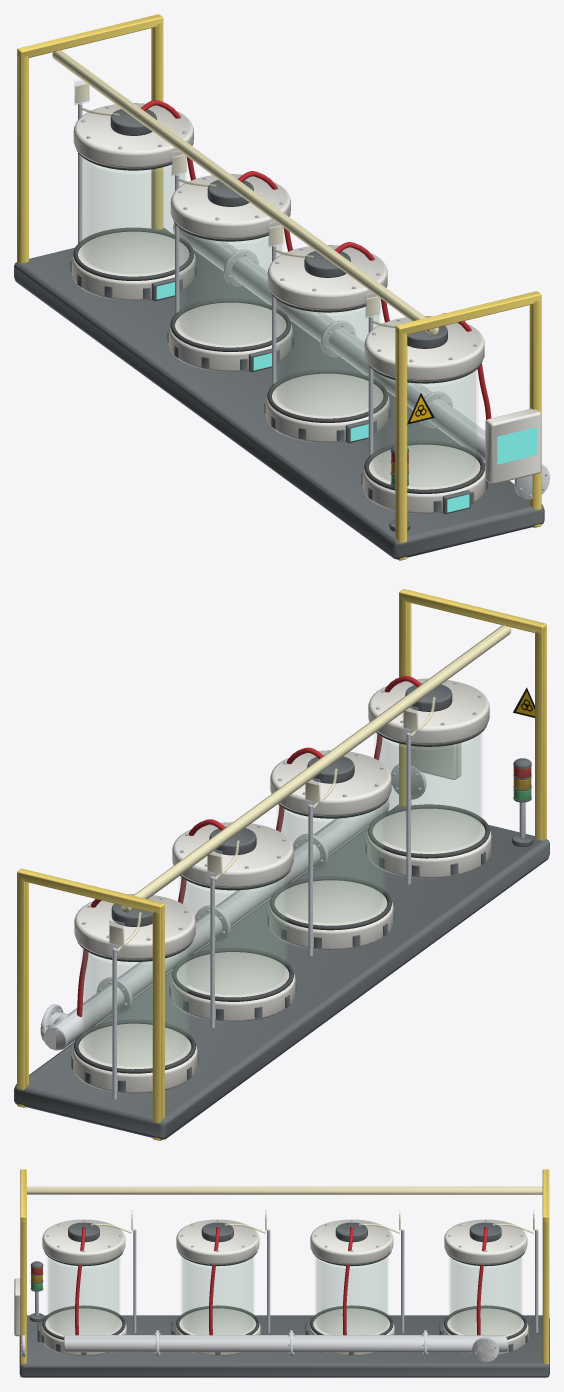
The model's file is granja.glb.
3 renders of one model, top to bottom at view 1: azimuth 30°, elevation 25°; view 2: azimuth 150°, elevation 25°; view 3: azimuth 270°, elevation 25°, orthographic. The views are drawn at different scales.
Parts seen in each view (by area): view 1: bancada, cap0_fluido, cap1_fluido, cap2_fluido, cap3_fluido, colector, cap0_vidrio, cap1_vidrio, cap2_vidrio, cap3_vidrio, cap1_base, cap0_base (+23 smaller); view 2: bancada, cap1_fluido, cap2_fluido, cap3_fluido, cap0_fluido, colector, cap3_vidrio, cap1_vidrio, cap2_vidrio, cap0_vidrio, cap3_base, cap2_base (+26 smaller); view 3: bancada, colector, linea_suero, cap2_fluido, cap3_fluido, cap1_fluido, cap0_fluido, cap0_vidrio, cap1_vidrio, cap2_vidrio, cap3_vidrio, cap0_tapa (+30 smaller).
Part boxes in pixels (box(x1,y1,x2,y2)): bancada: box(14, 228, 544, 559); cap0_fluido: box(83, 158, 184, 273); cap1_fluido: box(180, 229, 281, 344); cap2_fluido: box(277, 300, 378, 415); cap3_fluido: box(374, 371, 475, 486); colector: box(173, 223, 485, 461); cap0_vidrio: box(81, 157, 185, 250); cap1_vidrio: box(178, 228, 282, 321); cap2_vidrio: box(275, 299, 379, 392); cap3_vidrio: box(372, 370, 476, 463); cap1_base: box(168, 302, 292, 371); cap0_base: box(71, 231, 195, 300); bancada: box(14, 804, 549, 1139); cap1_fluido: box(181, 877, 284, 994); cap2_fluido: box(279, 806, 382, 922); cap3_fluido: box(377, 734, 479, 850); cap0_fluido: box(84, 949, 186, 1066); colector: box(52, 800, 389, 1050); cap3_vidrio: box(376, 733, 481, 827); cap1_vidrio: box(180, 877, 285, 970); cap2_vidrio: box(278, 805, 383, 899); cap0_vidrio: box(82, 948, 187, 1042); cap3_base: box(366, 808, 491, 878); cap2_base: box(268, 880, 393, 950); bancada: box(19, 1315, 549, 1377); colector: box(63, 1335, 504, 1352); linea_suero: box(27, 1186, 542, 1194); cap2_fluido: box(183, 1258, 252, 1334); cap3_fluido: box(49, 1258, 118, 1334); cap1_fluido: box(317, 1258, 386, 1334); cap0_fluido: box(451, 1258, 520, 1334); cap0_vidrio: box(450, 1257, 521, 1320); cap1_vidrio: box(316, 1257, 387, 1320); cap2_vidrio: box(182, 1257, 253, 1320); cap3_vidrio: box(48, 1257, 119, 1320); cap0_tapa: box(444, 1219, 527, 1264).
Size of the model in its own units: 0.958 by 1.32 by 4.
18 materials, 1 textured.
